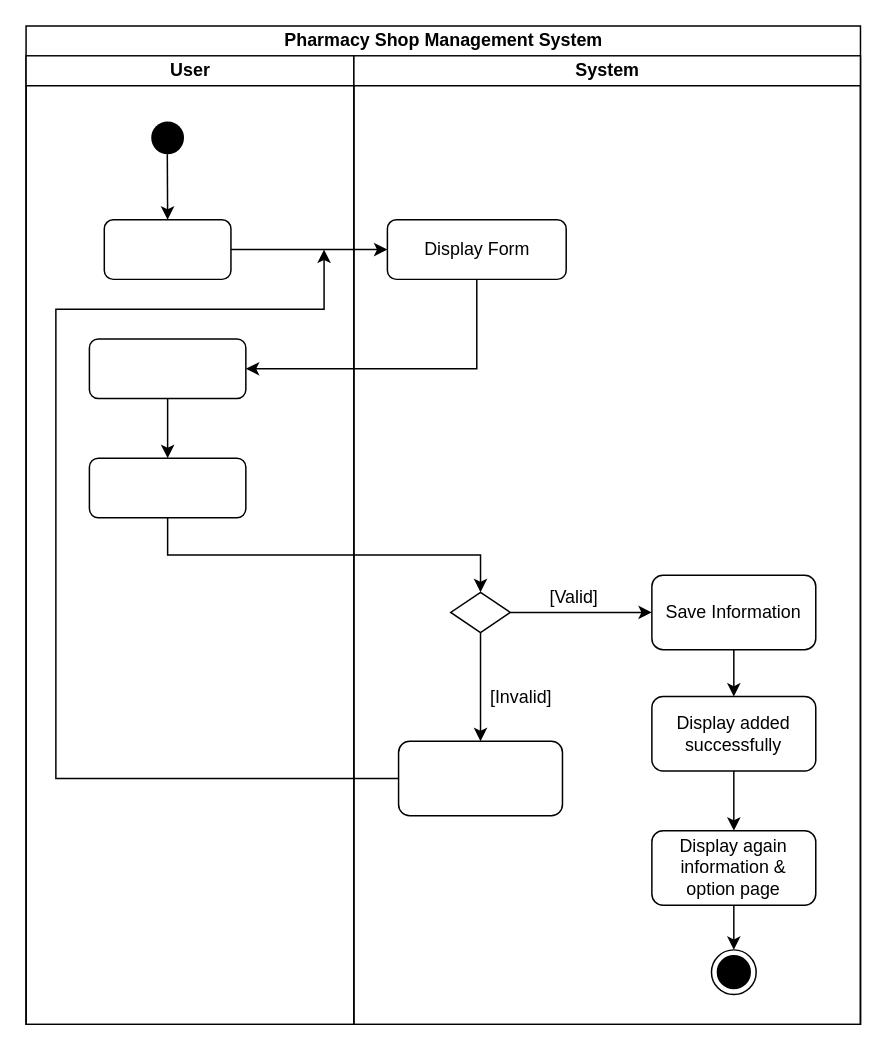
Some shapes in this 887 by 1050 pixel diagram are drawn without their labels. The centre of each missing label's shape, as x and y in pixels:
"Click Add Button" belongs at (x=167, y=248).
"Click Submit button" belongs at (x=167, y=487).
"Display Error message" belongs at (x=479, y=778).
"Fill Information" belongs at (x=167, y=368).
